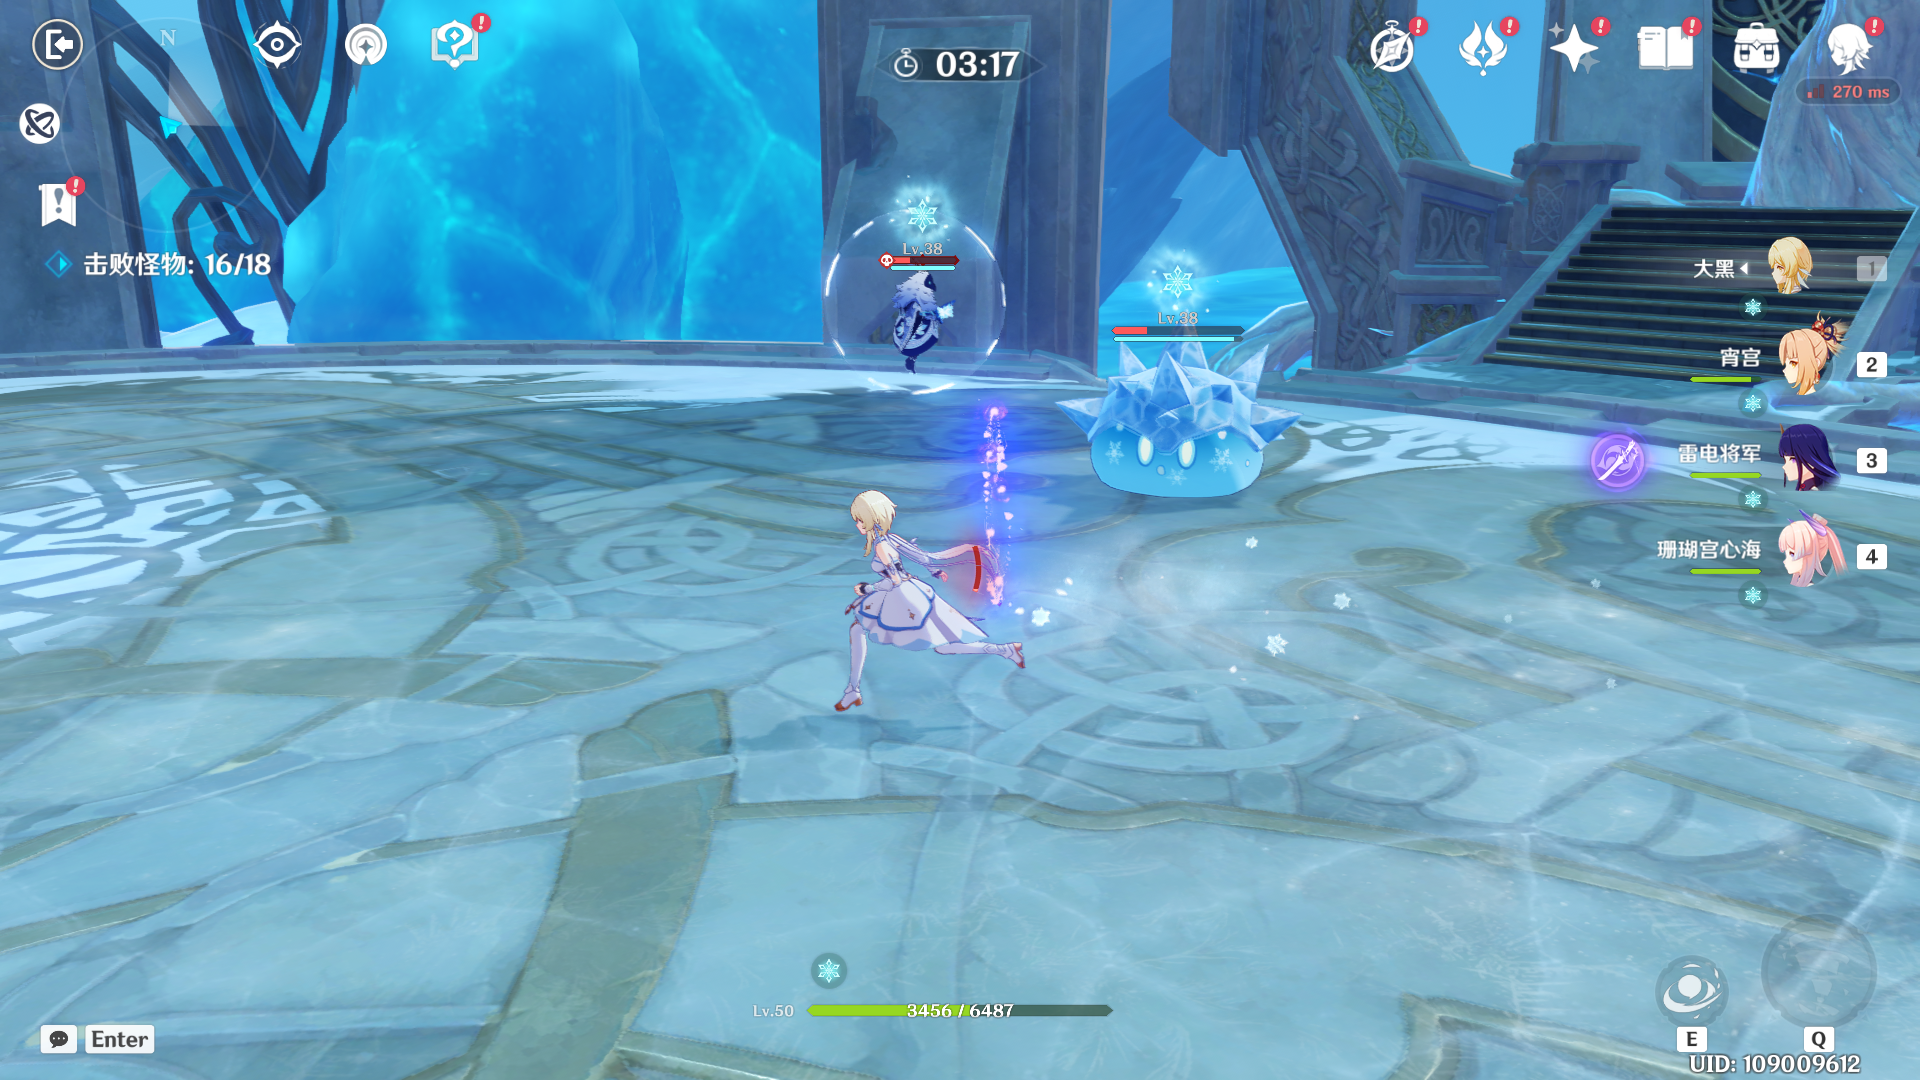caster: (823, 231, 1004, 400)
character: (789, 475, 1059, 737)
slime: (1050, 320, 1302, 530)
